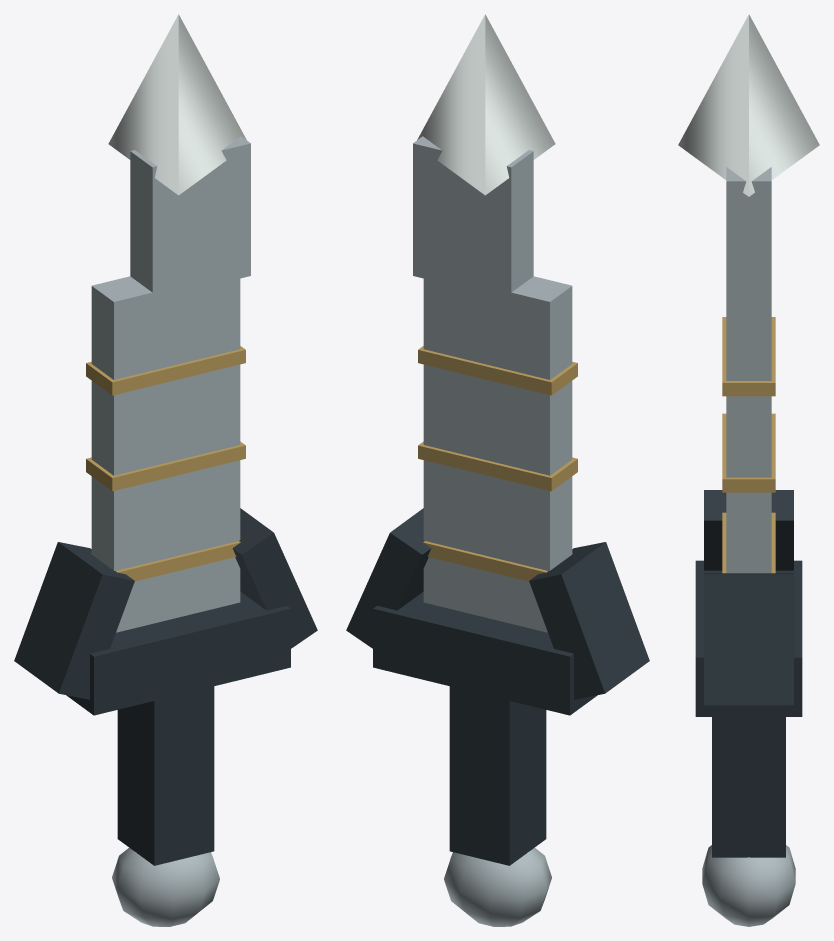
Rendered from fixed-fireblade.glb.
3 views of the same model, side by side, from view 1: azimuth 30°, elevation 25°; view 2: azimuth 150°, elevation 25°; view 3: azimuth 270°, elevation 25° (orthographic).
Visible parts, largest first — view 1: piece_whole; view 2: piece_whole; view 3: piece_whole.
Boxes of the visible parts, box(x1,y1,x2,y2) form: piece_whole: box(14, 14, 317, 926); piece_whole: box(346, 14, 649, 926); piece_whole: box(678, 14, 819, 926).
Size of the model in its own units: 0.3684 by 1.23 by 0.1732.
